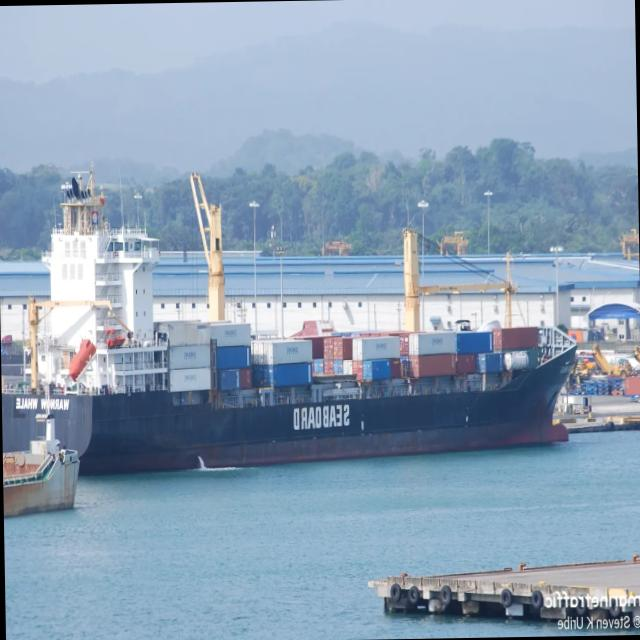Cargo: (45, 172, 575, 472), (403, 229, 419, 328)
